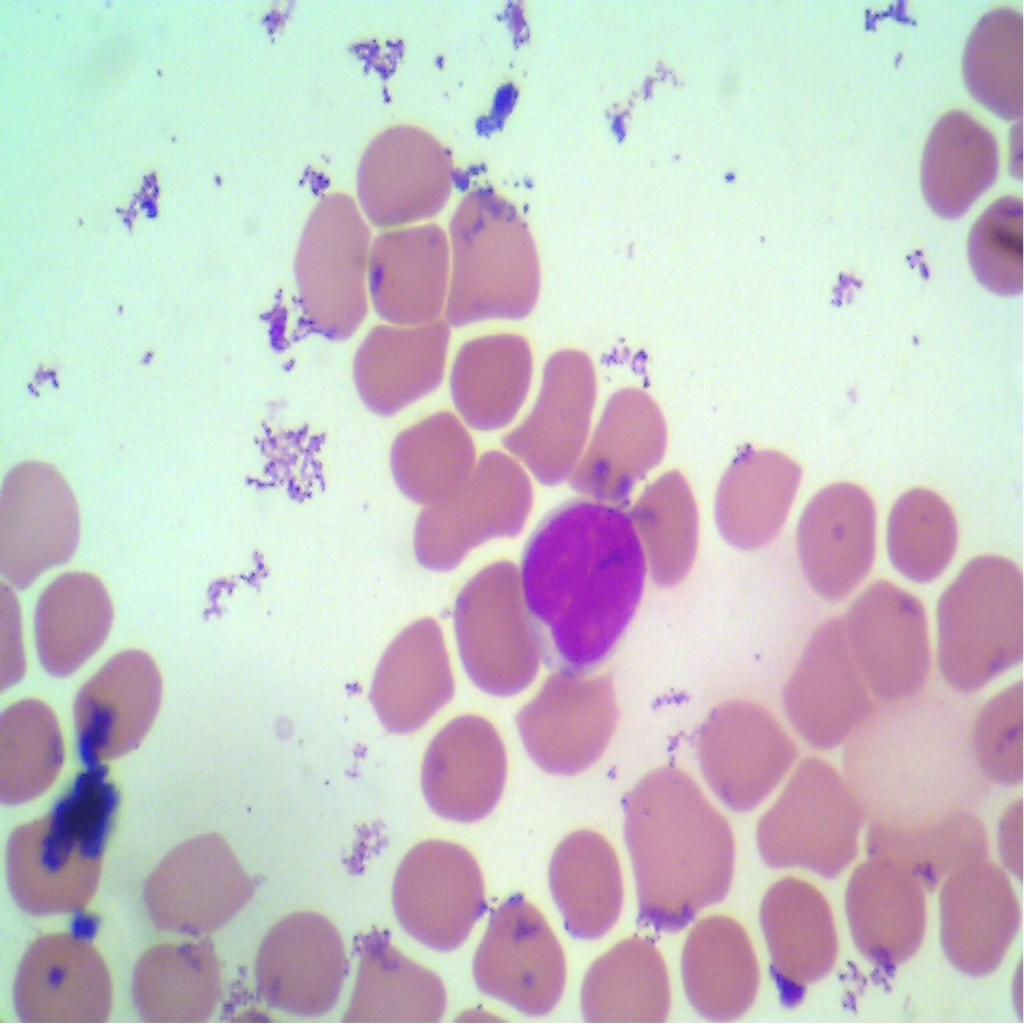Eritrosit: (616, 767, 736, 917), (289, 185, 373, 354), (138, 821, 256, 938), (904, 88, 1003, 225), (442, 554, 535, 698), (386, 828, 486, 959), (246, 892, 349, 1018), (756, 754, 862, 874), (420, 448, 526, 565), (504, 344, 590, 488), (450, 183, 541, 319), (354, 108, 455, 230), (415, 710, 511, 831), (3, 810, 108, 920), (519, 668, 624, 778), (475, 892, 566, 1018), (839, 840, 929, 966), (371, 605, 458, 735), (839, 578, 934, 695), (0, 456, 89, 580), (939, 557, 1023, 687), (583, 371, 661, 508), (8, 930, 122, 1023), (718, 426, 796, 561), (542, 818, 626, 942), (28, 564, 116, 682), (693, 692, 788, 799), (779, 624, 868, 738), (936, 854, 1018, 977), (364, 218, 455, 328), (351, 310, 448, 412), (790, 474, 876, 588), (78, 650, 163, 764), (678, 909, 763, 1023), (759, 871, 838, 989), (449, 317, 526, 438), (350, 924, 442, 1023), (582, 925, 674, 1023), (879, 479, 961, 584), (136, 922, 219, 1023), (636, 472, 699, 598), (970, 184, 1024, 328), (0, 691, 66, 804), (394, 404, 466, 494), (969, 692, 1023, 797)
Limfoblast: (518, 495, 648, 687)
